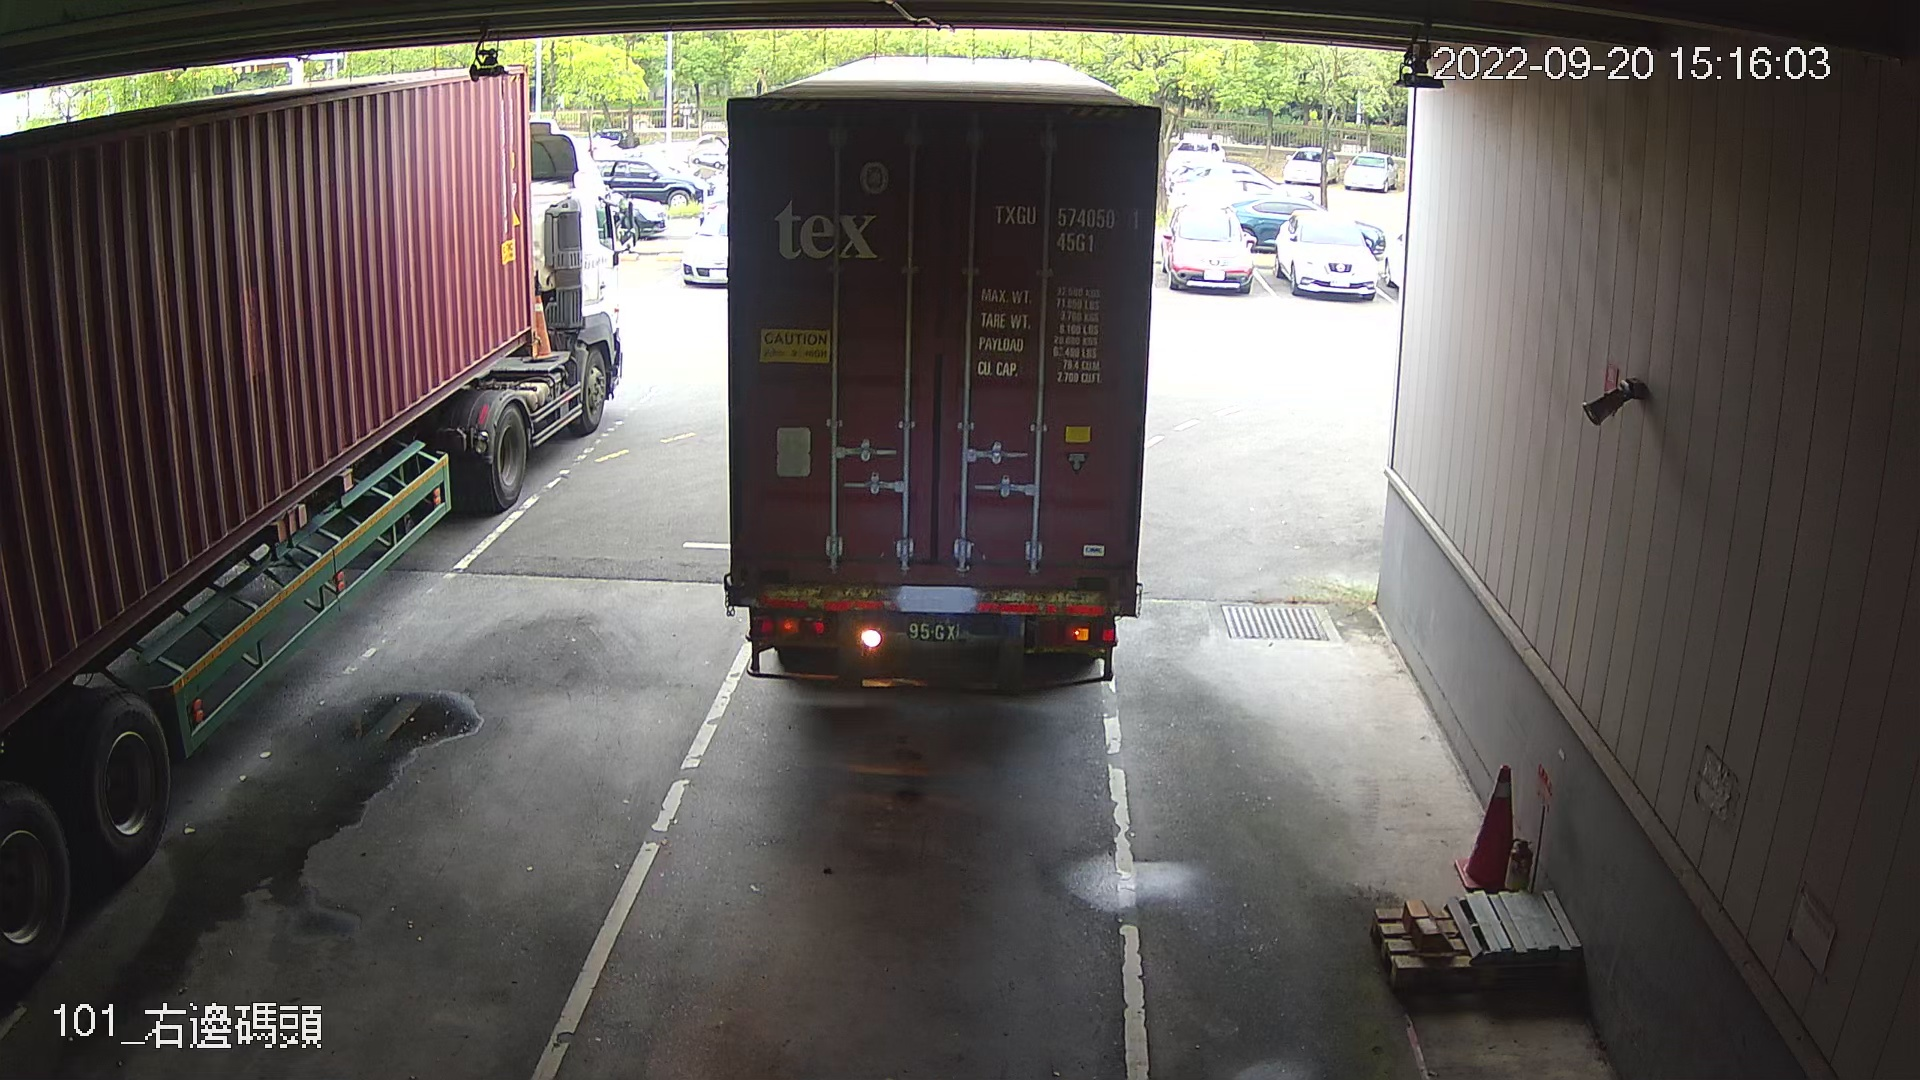container: (986, 191, 1150, 257)
